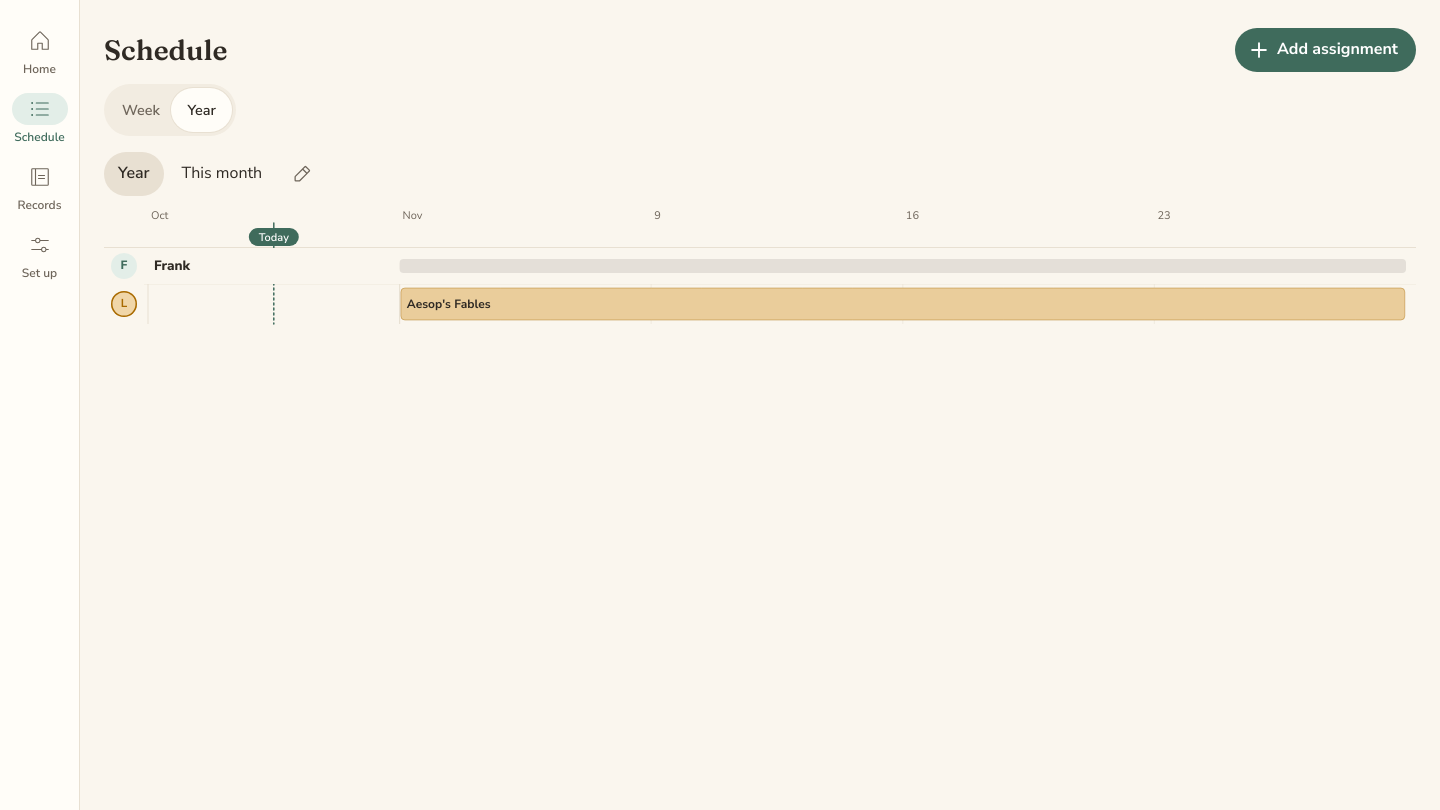
Scenario: a view with no plan, and an empty month (S7b-07) › the Zoom views sheet says Fall and Spring aren't in the dates when the plan doesn't span New Year
Expected: the picture named "Year timeline" is shown, x1=104 y1=204 x2=1416 y2=332
Click the button named "Edit views": (302, 174) x1=280 y1=152 x2=324 y2=196
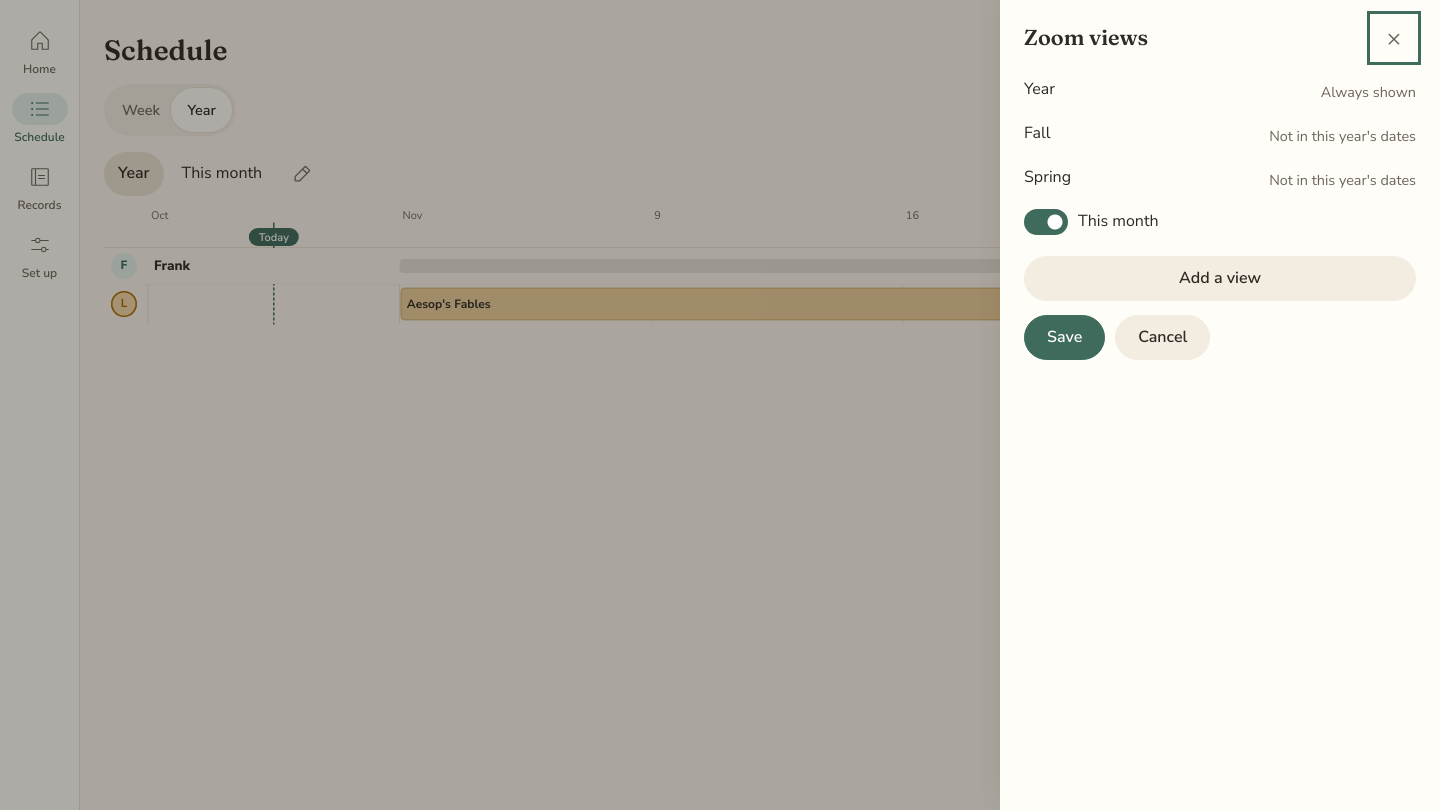
Result: the text "Not in this year's dates" is shown 2 times at x1=1269 y1=126 x2=1416 y2=146; x1=1269 y1=170 x2=1416 y2=190
